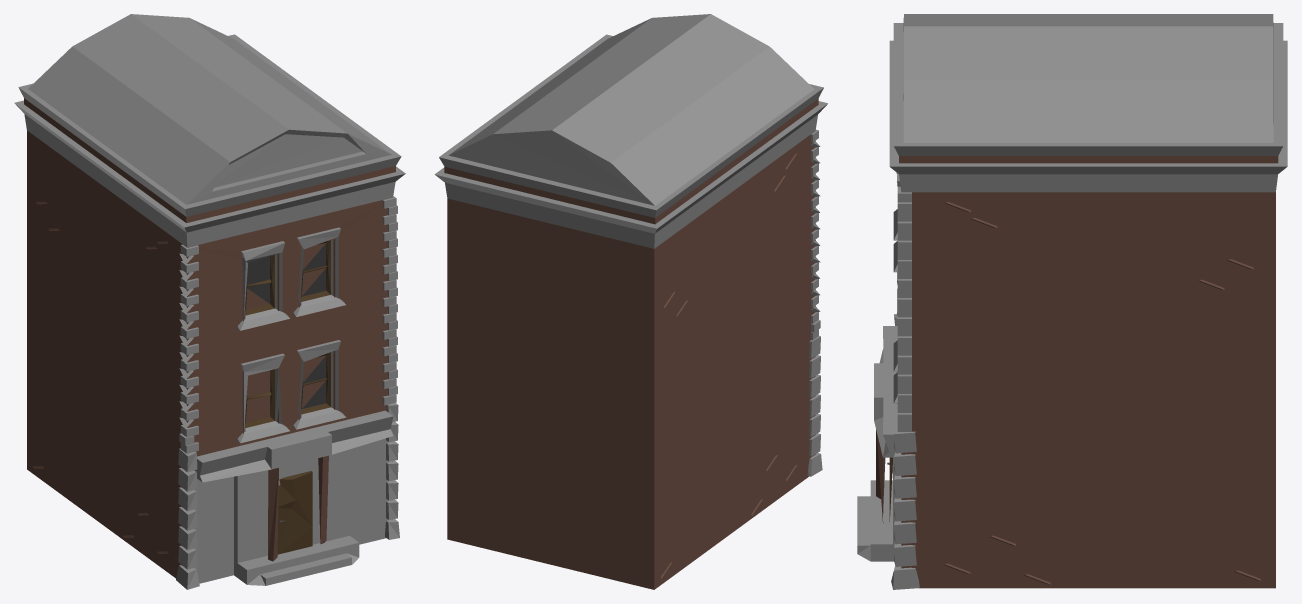
File: Building3_Small_lod.glb
3 views of the same model, side by side, from view 1: azimuth 30°, elevation 25°; view 2: azimuth 150°, elevation 25°; view 3: azimuth 270°, elevation 25° (orthographic). The views are drawn at different scales.
Visible parts, largest first — view 1: Building3_Small; view 2: Building3_Small; view 3: Building3_Small.
Boxes of the visible parts, left/top/right/bottom form: Building3_Small: left=14, top=14, right=405, bottom=589; Building3_Small: left=434, top=14, right=827, bottom=589; Building3_Small: left=857, top=14, right=1287, bottom=589.
Size of the model in its own units: 3.05 by 5.68 by 4.4.
